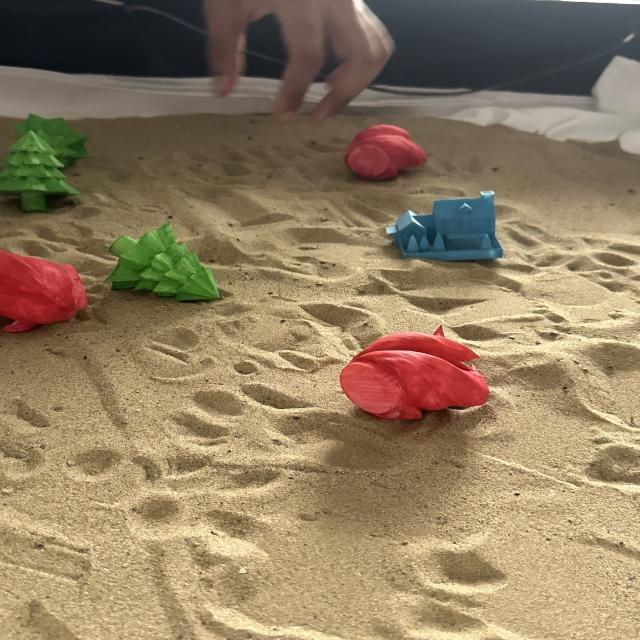fire: (337, 322, 491, 422), (0, 251, 91, 335), (340, 124, 430, 179)
house: (382, 188, 507, 264)
tree: (104, 225, 222, 302), (1, 130, 78, 213), (13, 111, 92, 163)
